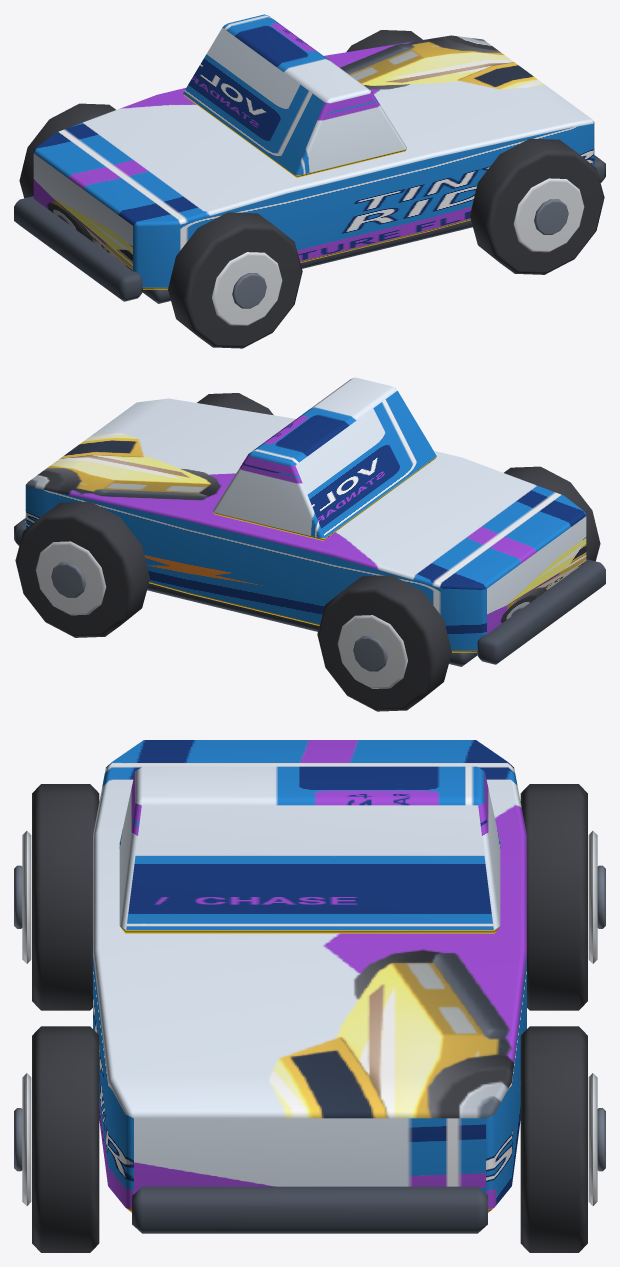
3 views of the same model, one above another, from view 1: azimuth 30°, elevation 25°; view 2: azimuth 150°, elevation 25°; view 3: azimuth 270°, elevation 25° (orthographic). The views are drawn at different scales.
Visible parts, largest first — view 1: FF-03_connected_shell, FF-03_cabin, Tire, Tire.002, front bumper, Rim.002, Rim, Tire.001, underbody, Hub.002, Hub, Tire.003; view 2: FF-03_connected_shell, FF-03_cabin, Tire.001, Tire.003, front bumper, Rim.003, Rim.001, Tire, underbody, Hub.003, Hub.001, Tire.002; view 3: FF-03_connected_shell, FF-03_cabin, rear bumper, Tire.002, Tire.003, Tire, Tire.001, Rim, Rim.001, Rim.002, Rim.003.
Part boxes in pixels (bbox=[...]): FF-03_connected_shell: bbox=[33, 35, 594, 289]; FF-03_cabin: bbox=[183, 14, 406, 177]; Tire: bbox=[168, 212, 302, 348]; Tire.002: bbox=[470, 138, 604, 274]; front bumper: bbox=[14, 196, 142, 301]; Rim.002: bbox=[513, 178, 584, 252]; Rim: bbox=[212, 252, 282, 325]; Tire.001: bbox=[19, 103, 115, 198]; underbody: bbox=[142, 220, 472, 303]; Hub.002: bbox=[534, 199, 568, 234]; Hub: bbox=[232, 273, 266, 308]; Tire.003: bbox=[346, 30, 422, 52]; FF-03_connected_shell: bbox=[25, 398, 586, 652]; FF-03_cabin: bbox=[213, 377, 436, 540]; Tire.001: bbox=[317, 575, 451, 711]; Tire.003: bbox=[15, 501, 149, 637]; front bumper: bbox=[477, 559, 605, 664]; Rim.003: bbox=[35, 541, 106, 615]; Rim.001: bbox=[337, 615, 407, 688]; Tire: bbox=[504, 466, 600, 561]; underbody: bbox=[147, 583, 477, 666]; Hub.003: bbox=[51, 562, 85, 597]; Hub.001: bbox=[353, 636, 387, 671]; Tire.002: bbox=[197, 393, 273, 415]; FF-03_connected_shell: bbox=[93, 740, 526, 1212]; FF-03_cabin: bbox=[119, 766, 500, 933]; rear bumper: bbox=[132, 1186, 487, 1233]; Tire.002: bbox=[32, 1026, 99, 1252]; Tire.003: bbox=[520, 1026, 587, 1252]; Tire: bbox=[32, 784, 99, 1010]; Tire.001: bbox=[520, 784, 587, 1010]; Rim: bbox=[22, 831, 31, 963]; Rim.001: bbox=[588, 831, 597, 963]; Rim.002: bbox=[22, 1073, 31, 1205]; Rim.003: bbox=[588, 1073, 597, 1205].
Bounding box in the file's own units: 359 × 140 × 229.
